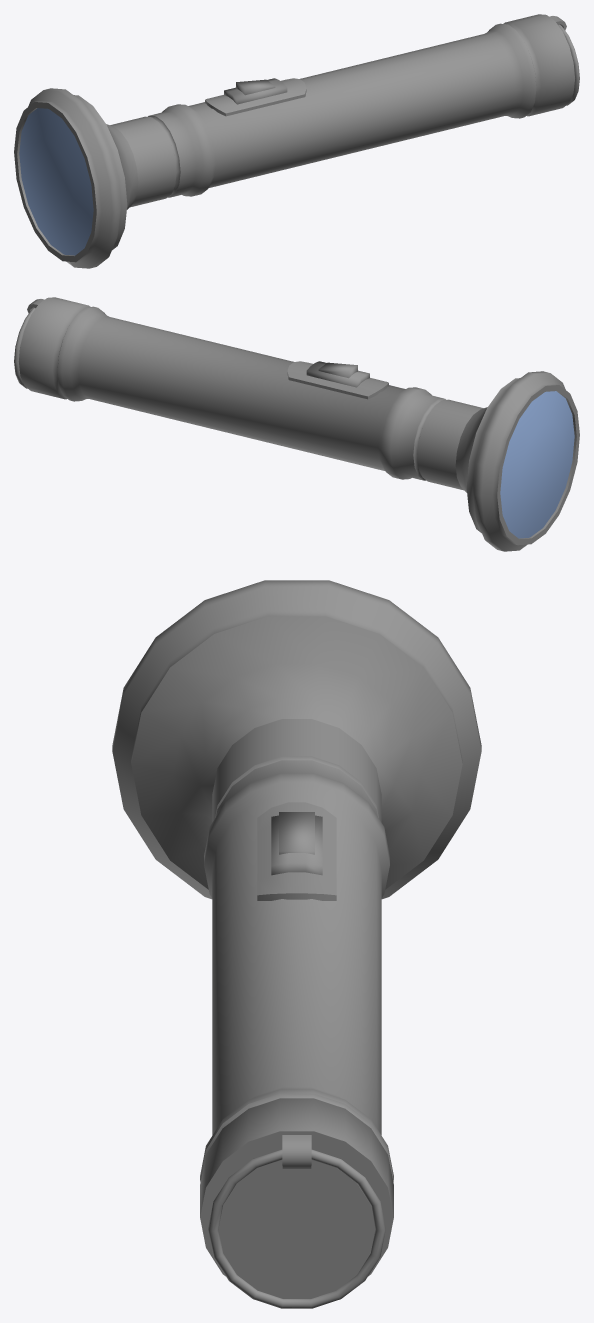
The model's file is VintageTorch.fbx.
The picture shows the model from 3 angles, top to bottom: view 1: azimuth 30°, elevation 25°; view 2: azimuth 150°, elevation 25°; view 3: azimuth 270°, elevation 25°; orthographic projection. The views are drawn at different scales.
Visible parts, largest first — view 1: light, lense; view 2: light, lense; view 3: light.
Boxes of the visible parts, x1,y1,x2,y2 form: light: [14, 14, 579, 268]; lense: [19, 108, 93, 255]; light: [14, 297, 579, 551]; lense: [500, 391, 574, 538]; light: [112, 580, 481, 1308].
Size of the model in its own units: 1776 by 544 by 552.
